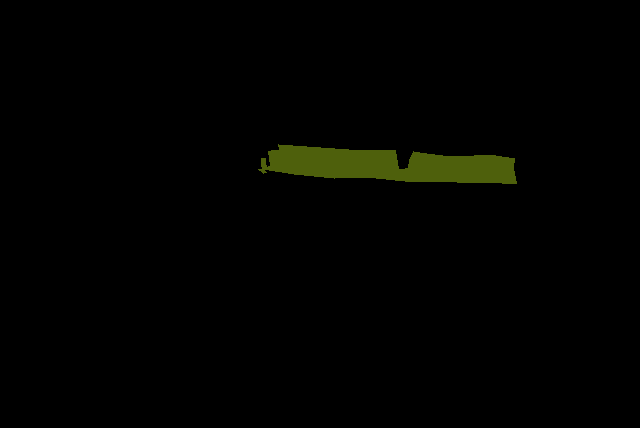Train: (258, 144, 516, 183)
